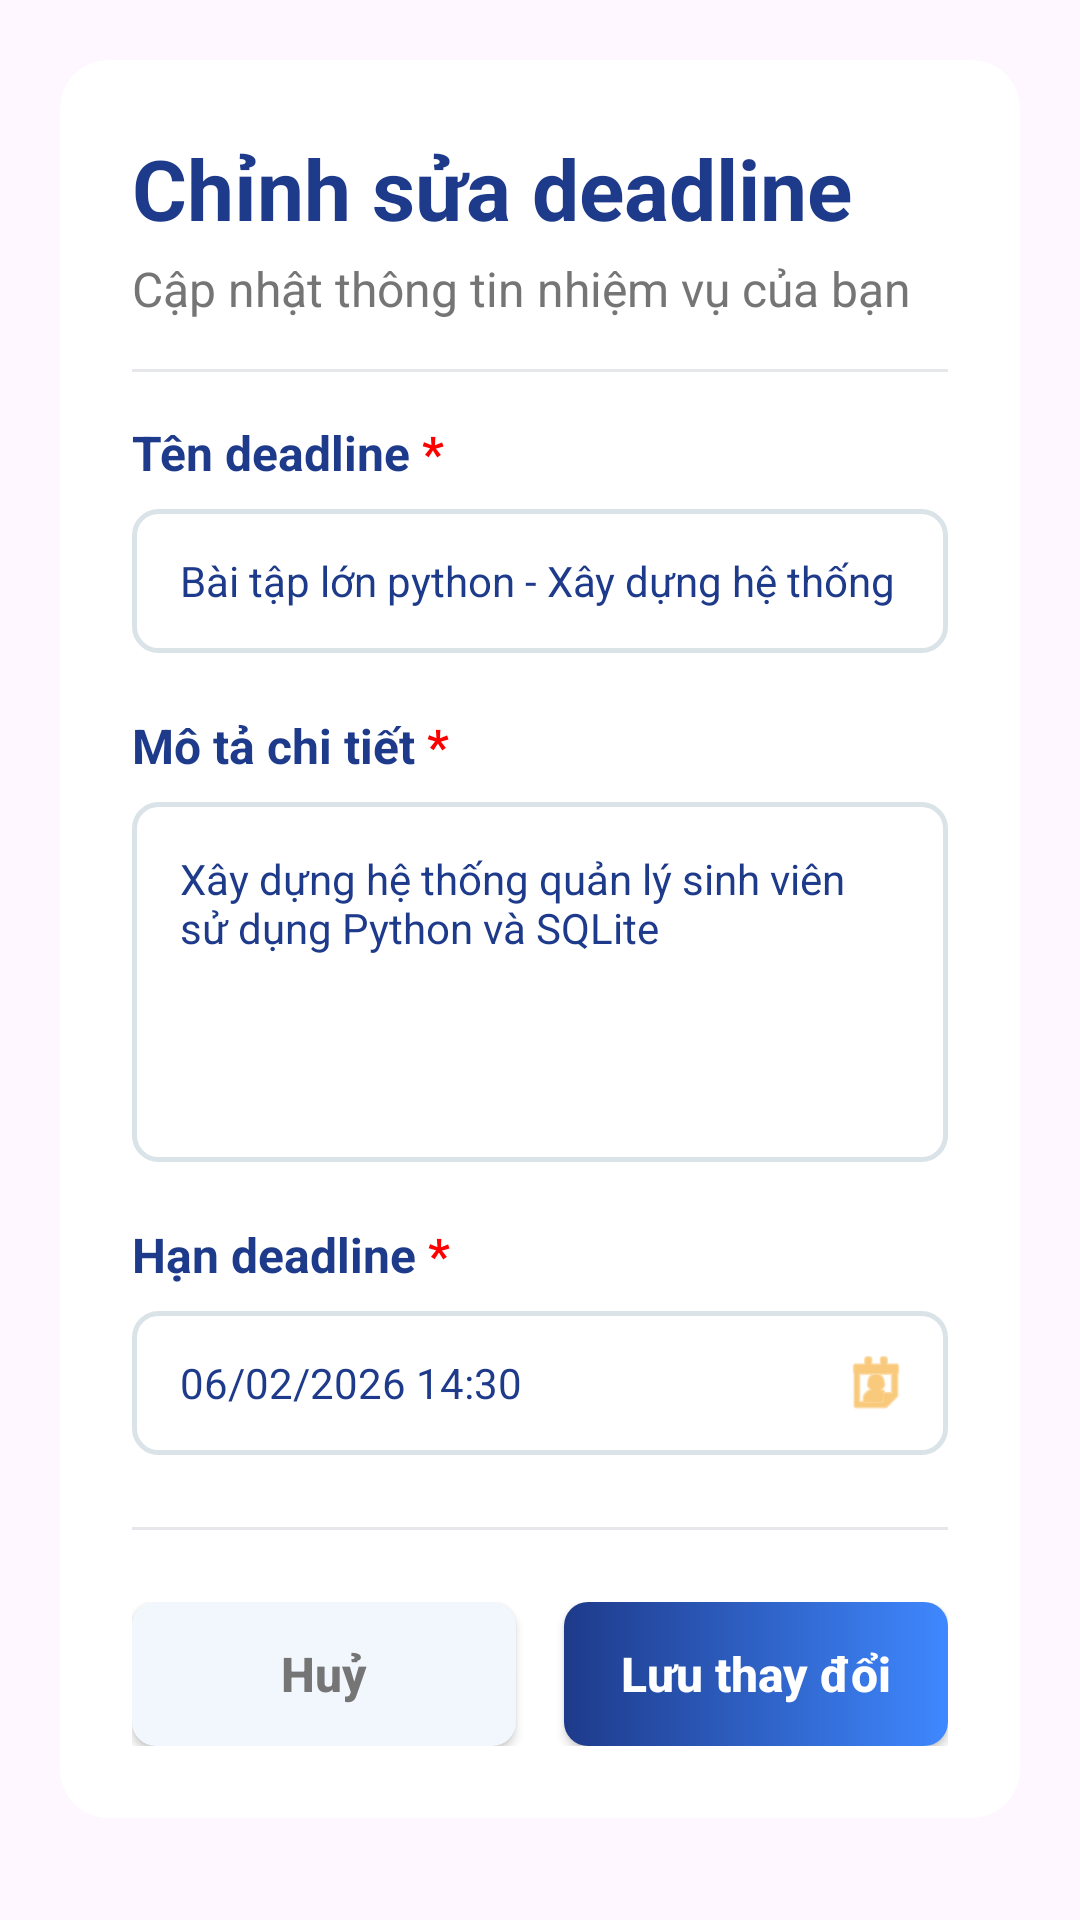

Where to tap for icons on this 1080*1920 app screen, as point (x, y):
calendar: point (876, 1382)
